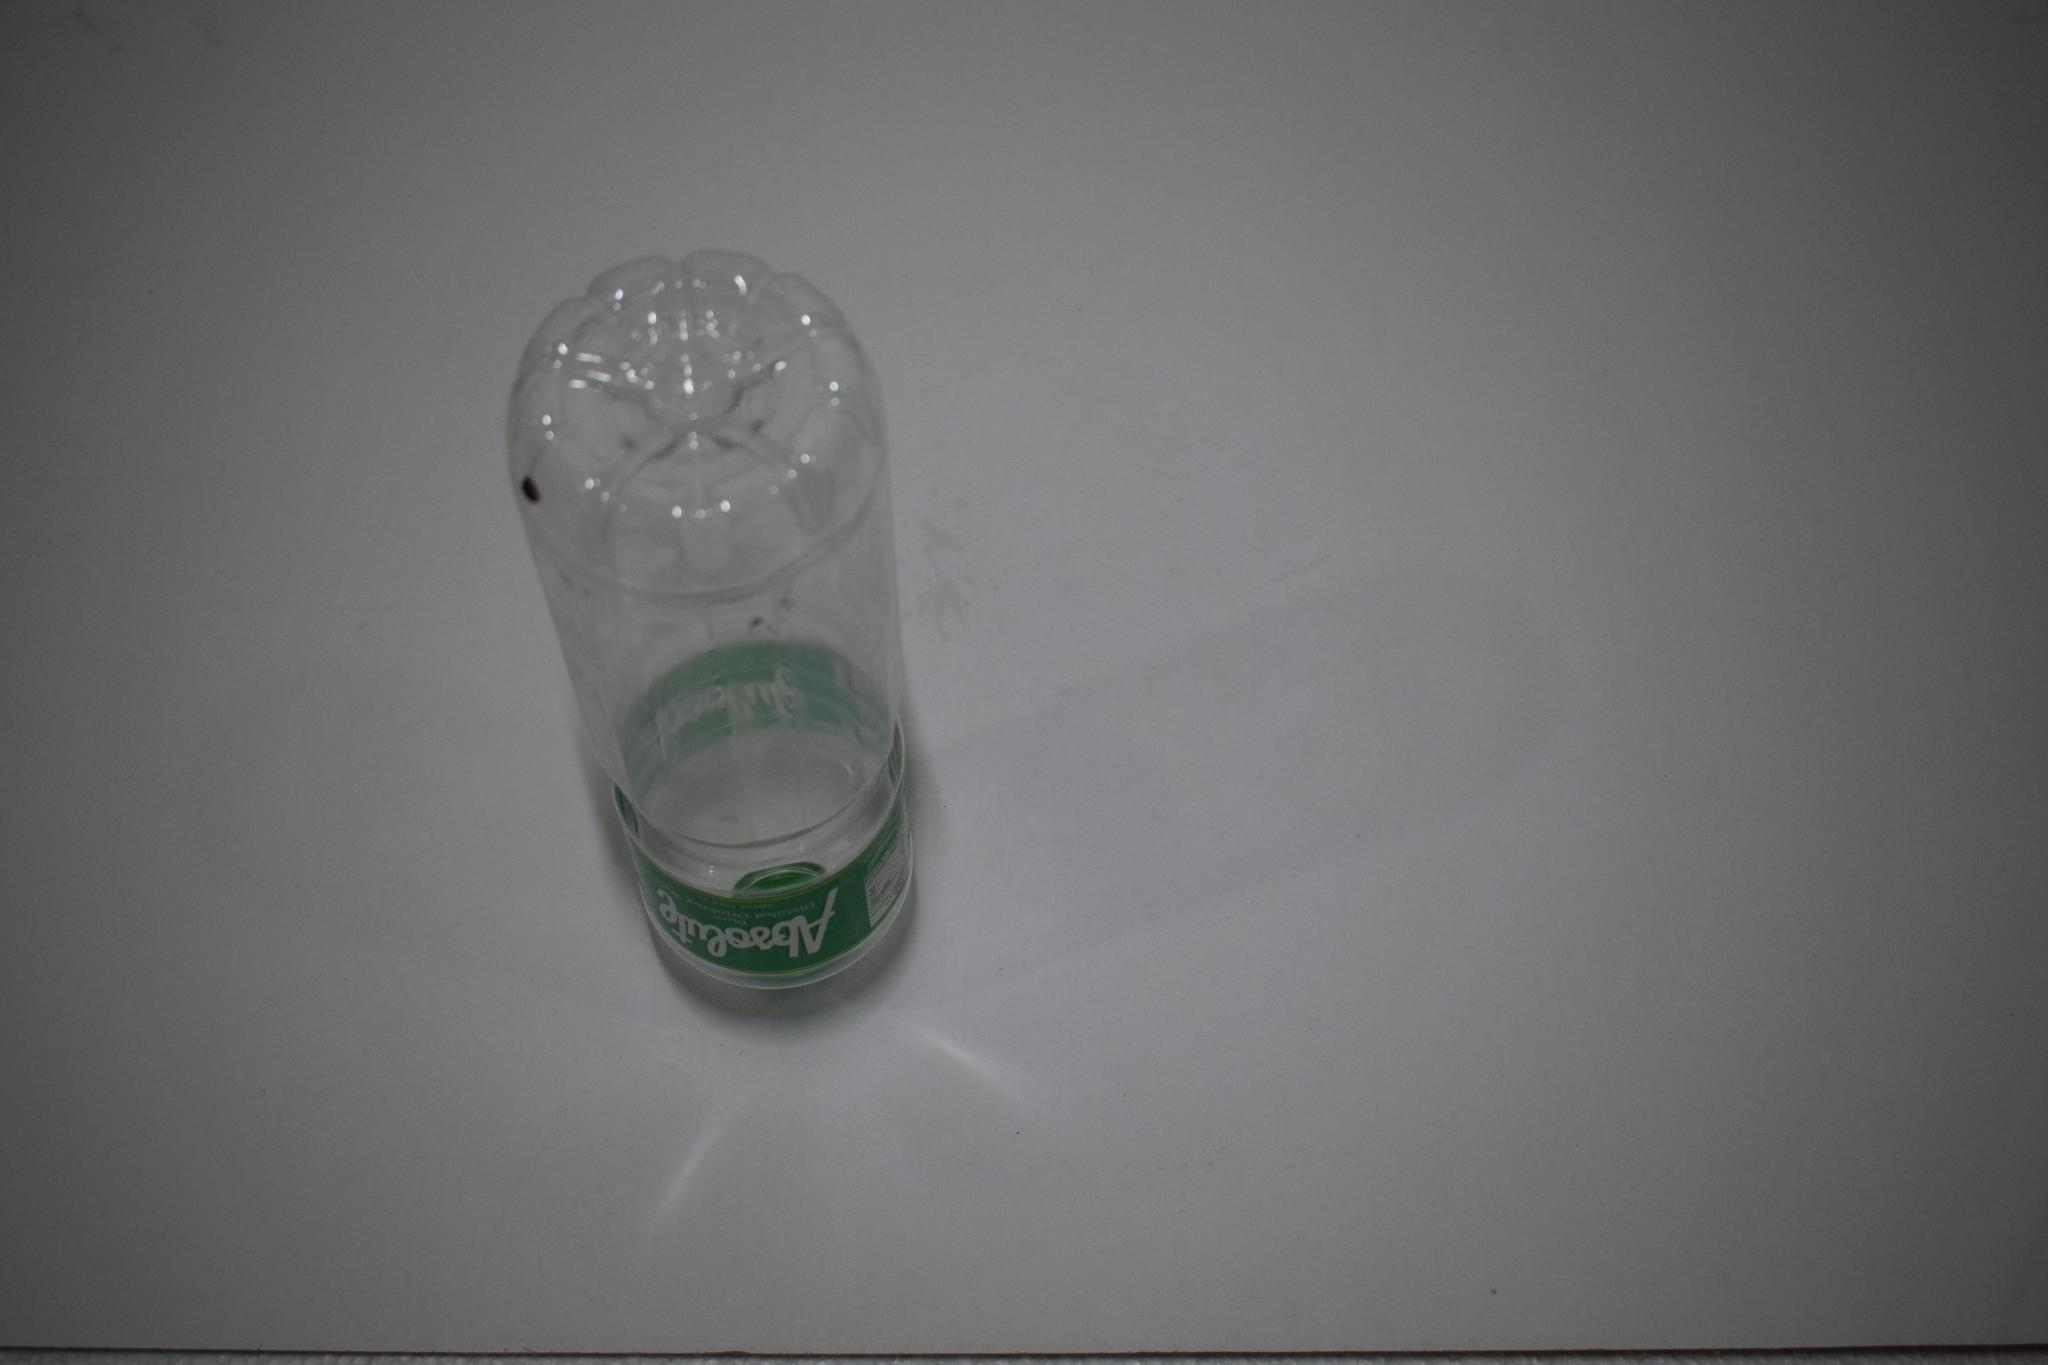bottle: (487, 232, 923, 1042)
